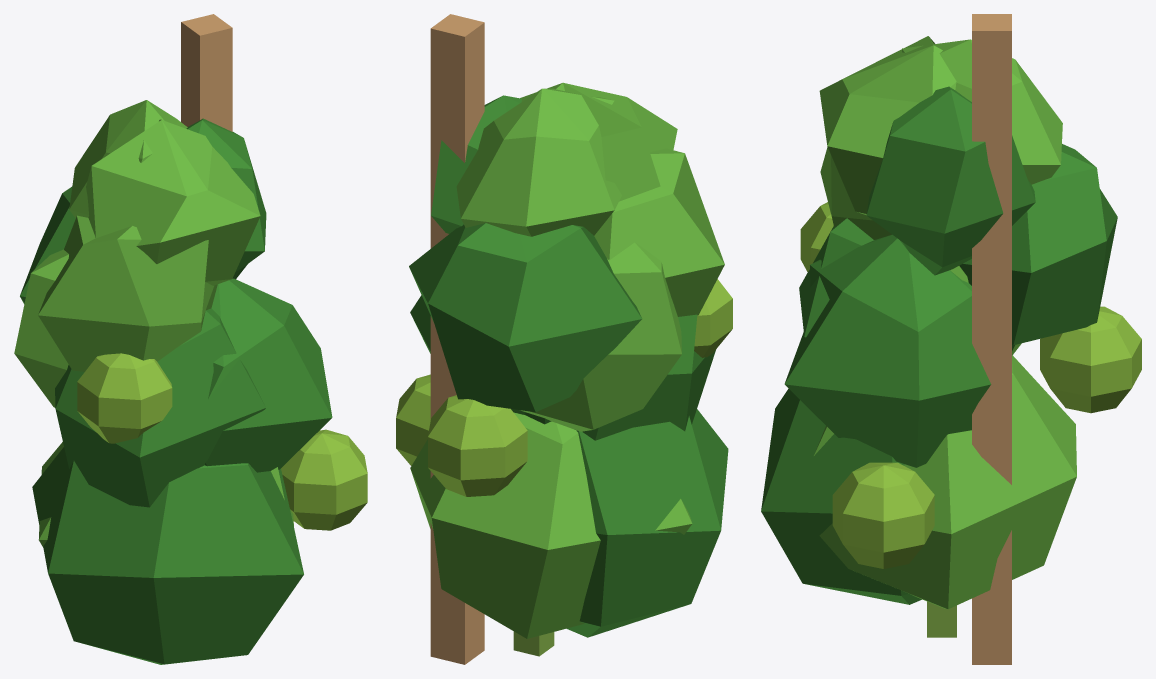
The model's file is tomato_3.obj.
3 views of the same model, side by side, from view 1: azimuth 30°, elevation 25°; view 2: azimuth 150°, elevation 25°; view 3: azimuth 270°, elevation 25° (orthographic). The views are drawn at different scales.
Visible parts, largest first — view 1: plant; view 2: plant; view 3: plant.
Part boxes in pixels (box(x1,y1,x2,y2)): plant: box(14, 14, 367, 664); plant: box(396, 14, 732, 664); plant: box(761, 14, 1141, 664).
Bounding box in the file's own units: 0.3898 × 0.7 × 0.3811.
